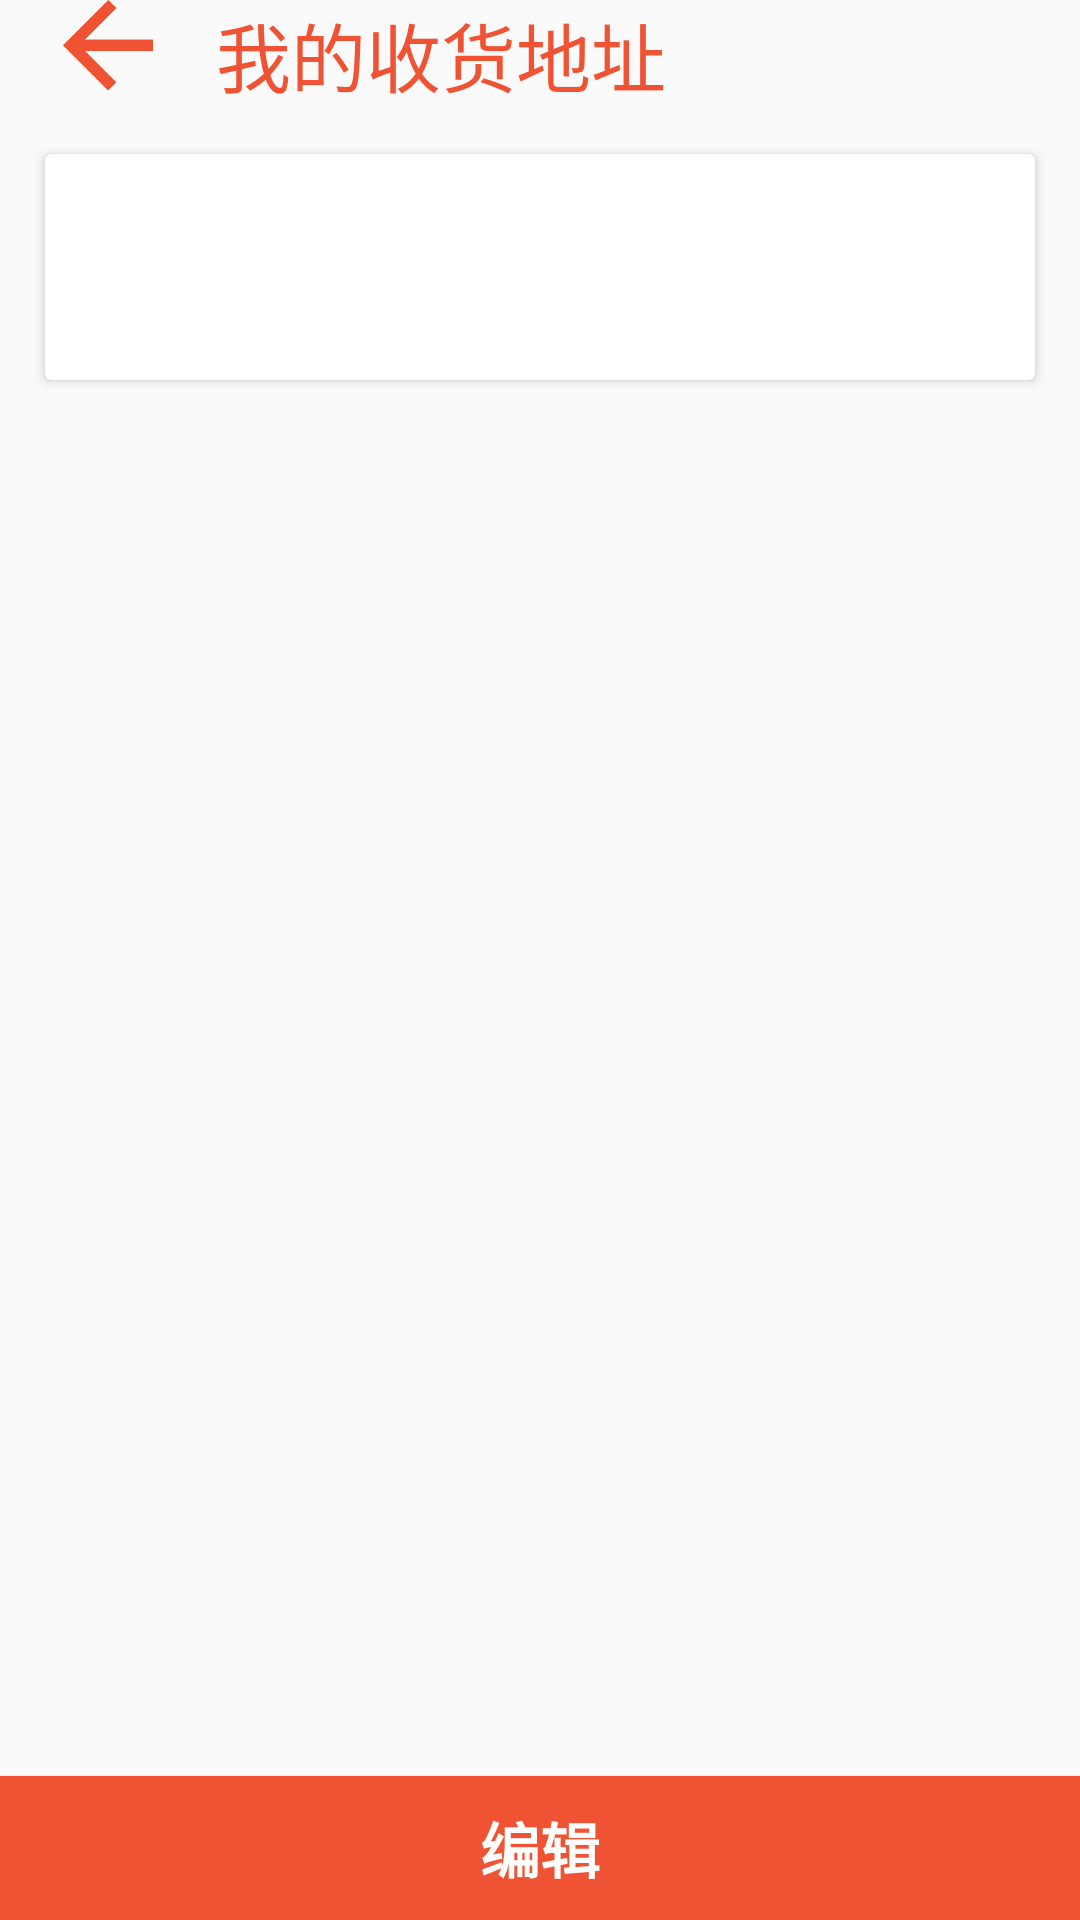

Icon bounding boxes for this 1080w x 1920h phone screenshot, format (x1,y1,x2,y2):
return last: (63,0,153,90)
